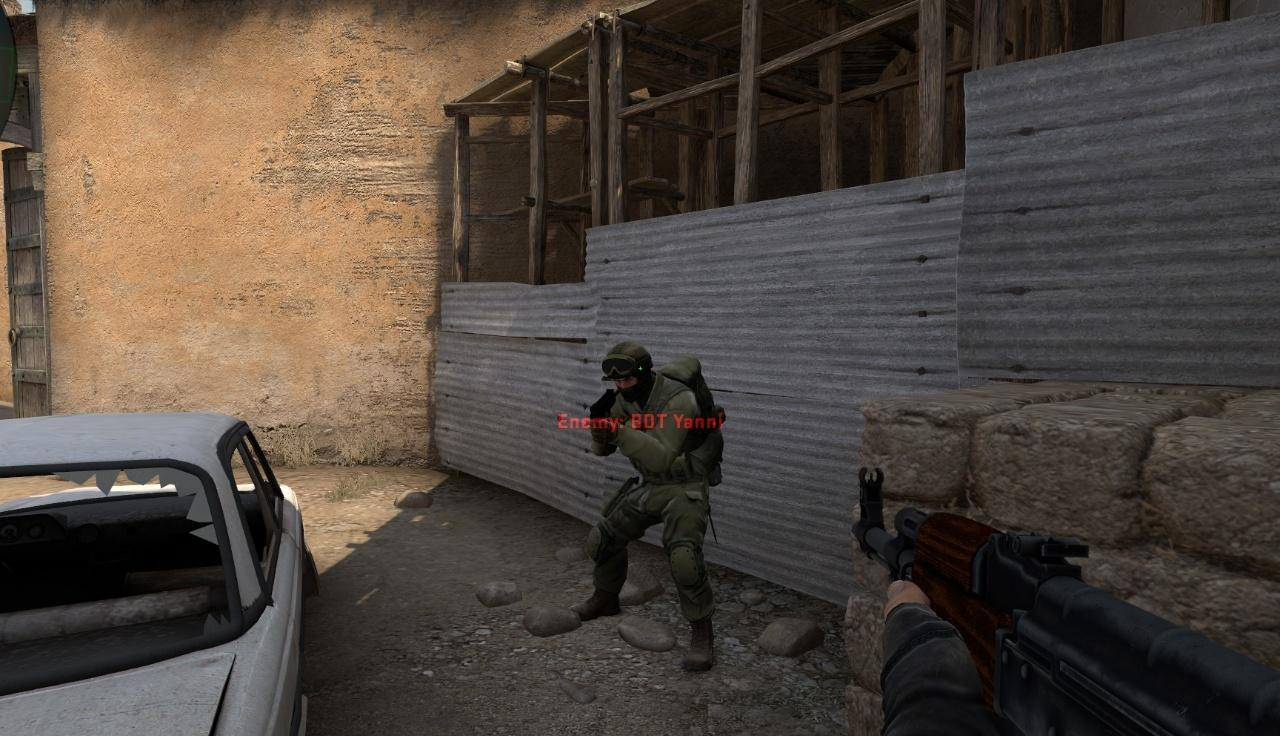ct: (567, 342, 718, 670)
cthead: (605, 344, 653, 399)
rifle: (852, 466, 1280, 736)
